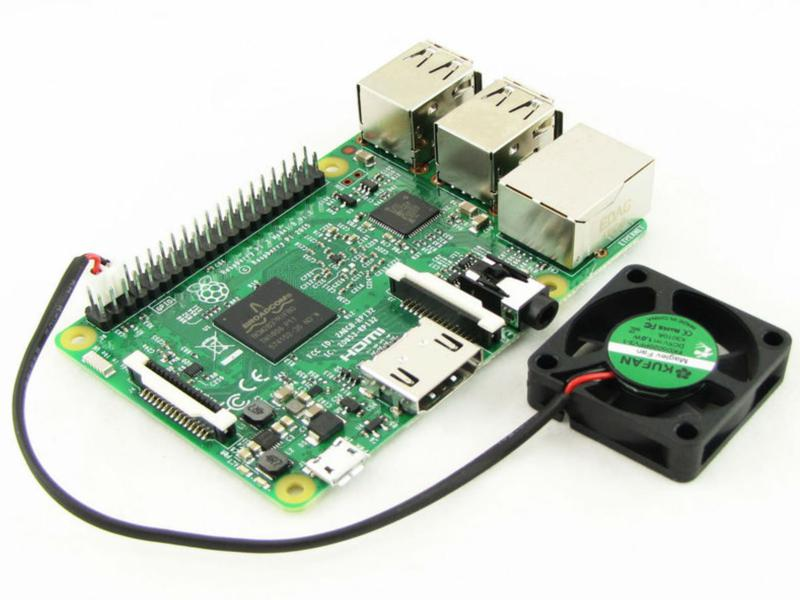Raspberry_Pi_3: (55, 30, 671, 516)
